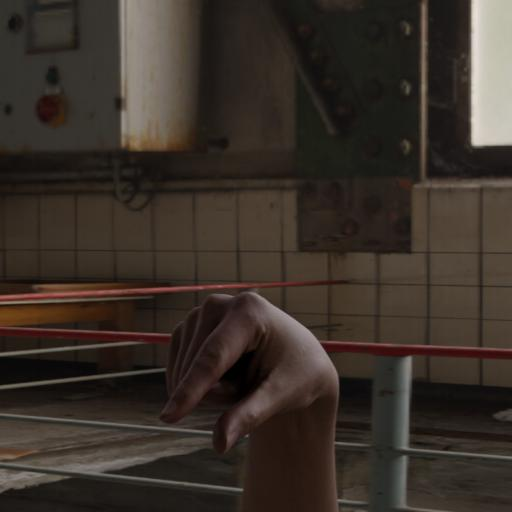Q: (79, 261, 363, 512)
